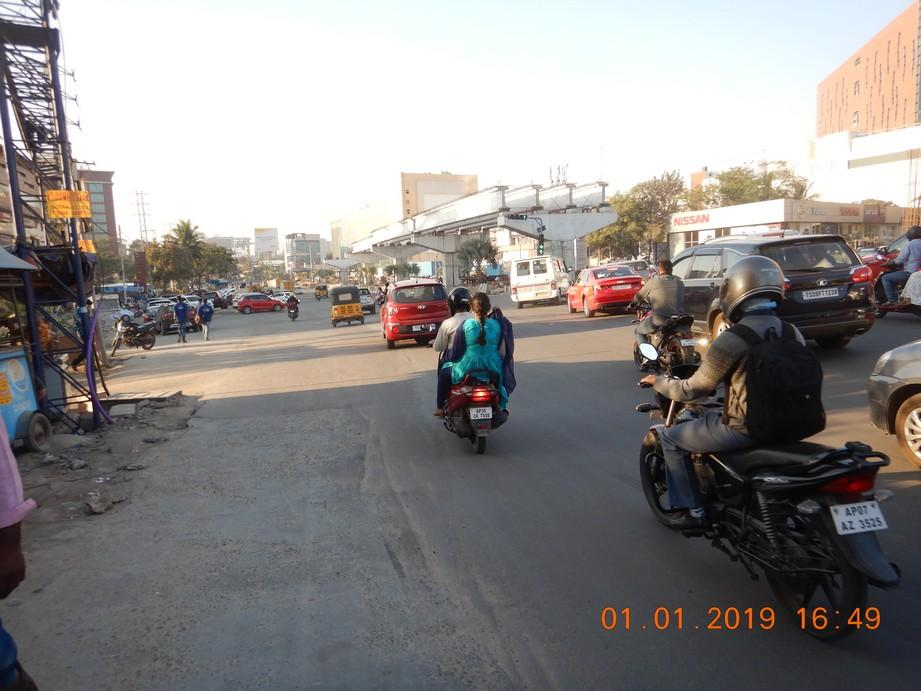plate: (832, 503, 885, 534), (682, 339, 698, 346)
